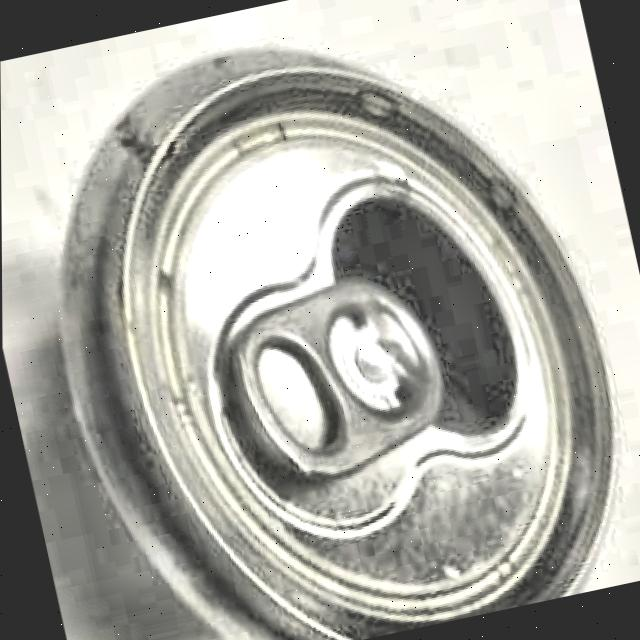metal: (64, 44, 616, 640)
